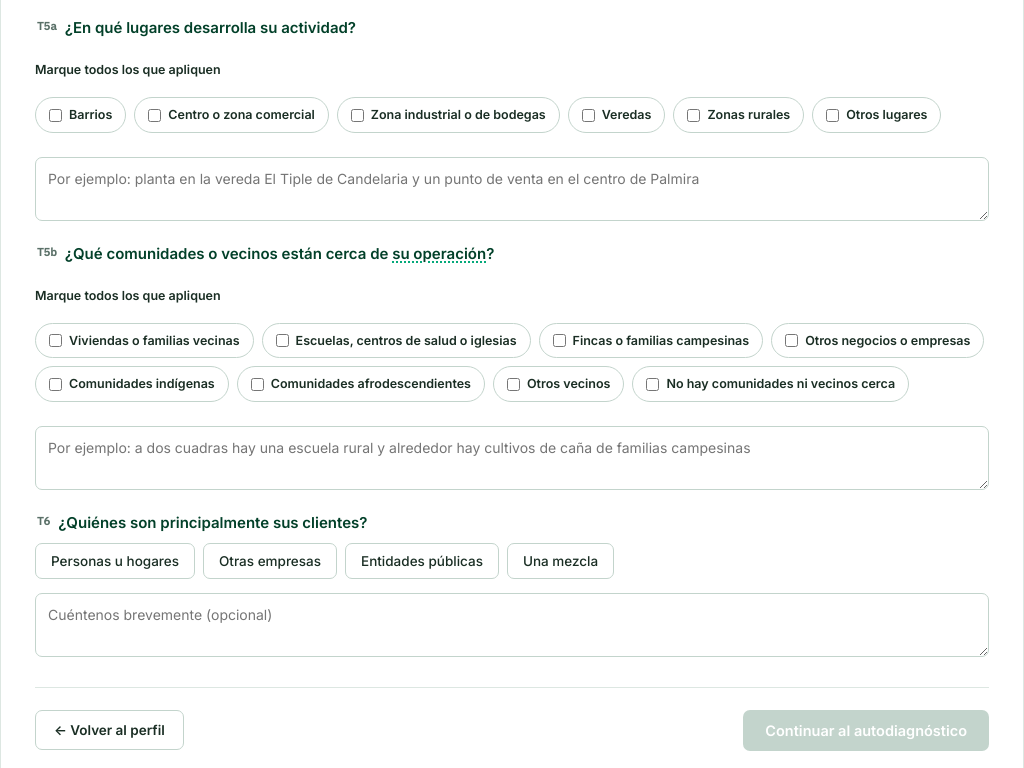
explicaciones al pasar el mouse › cada opción se describe con su ayuda y la muestra al pasar el mouse
(page scrolled)
Hover over the label "Comunidades indígenas" at (132, 384), box [35,366,229,402]
Wait 200 ms
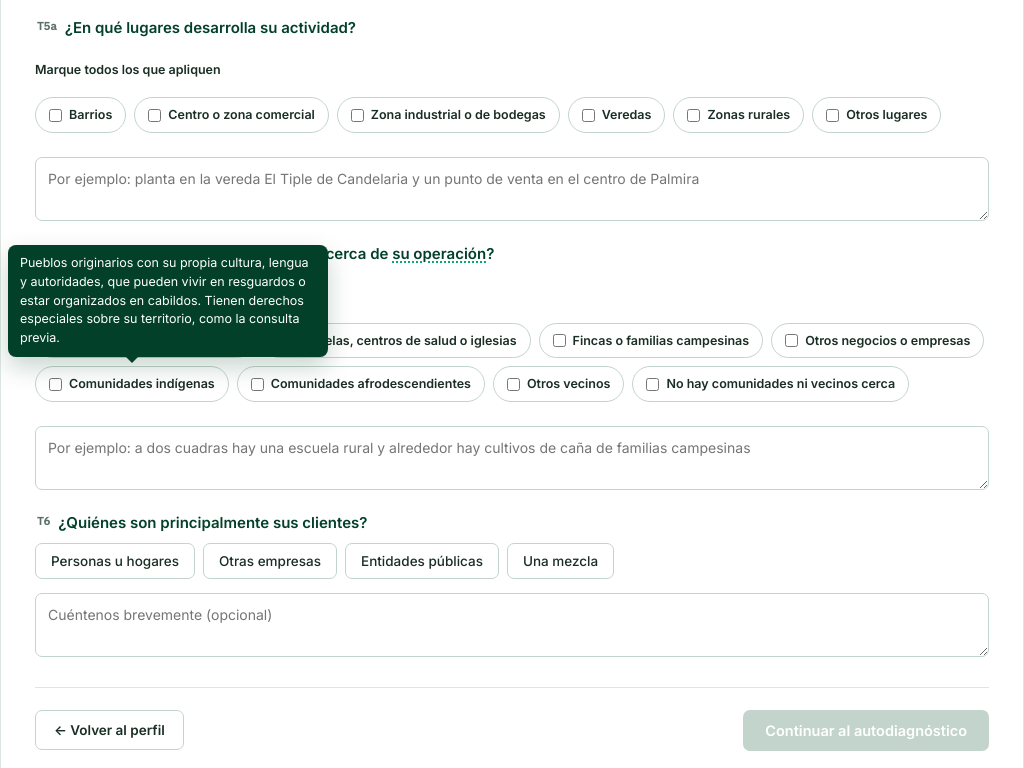
Now the text with class "ayuda-globo" shows "Pueblos originarios con su propia cultura, lengua y autoridades, que pueden vivir en resguardos o estar organizados en cabildos. Tienen derechos especiales sobr", box [20,255,309,345]
Note: Solo un globo a la vez.
Hover over the label "Veredas" at (617, 115), box [568,97,665,133]
Wait 200 ms
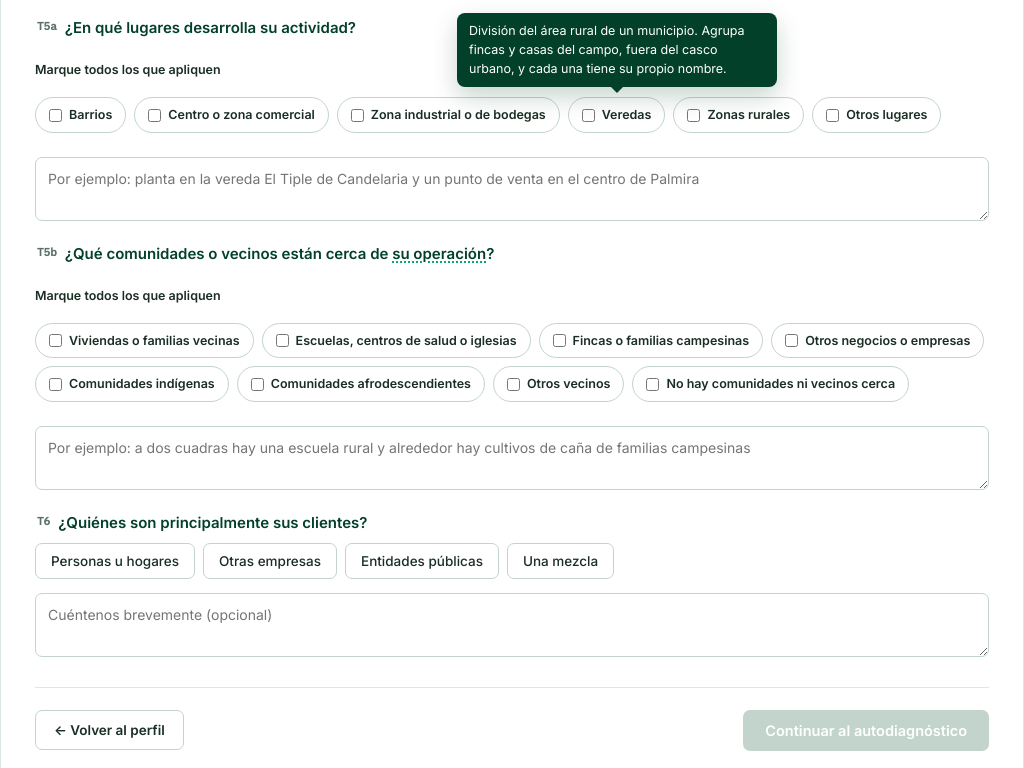
Now the number of elements with class "ayuda-globo" is 1, box [457,13,777,87]
Now the text with class "ayuda-globo" shows "División del área rural", box [469,23,745,76]
Move the pointer off the label "Veredas", box [568,97,665,133]
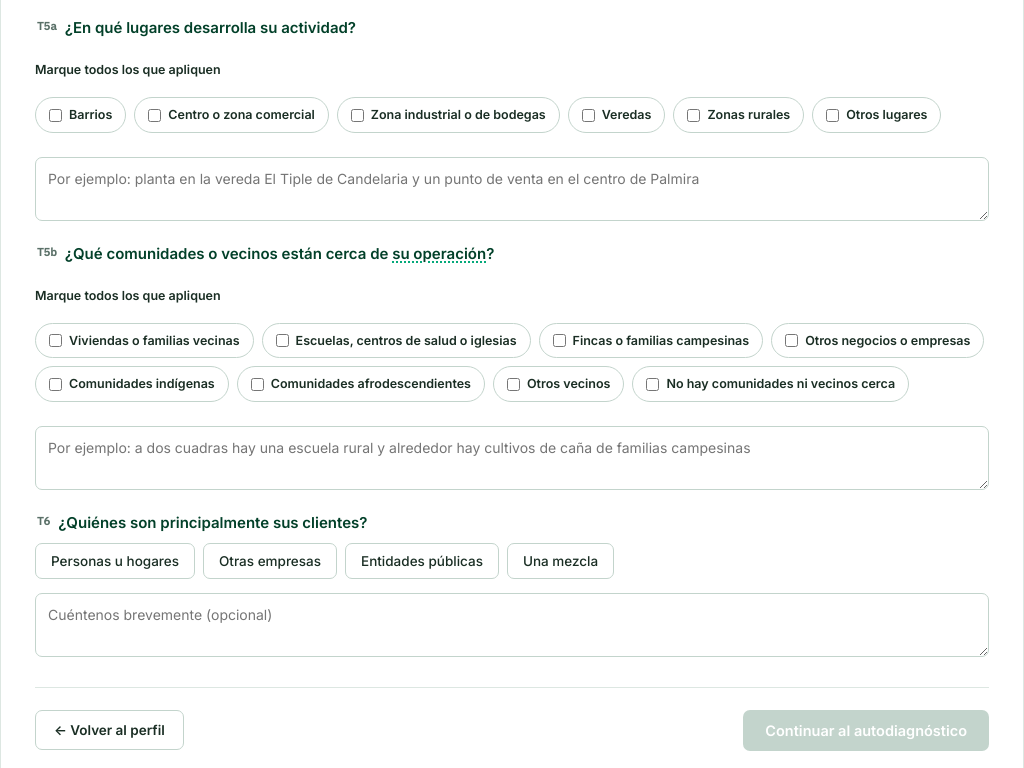
Now the text with class "ayuda-globo" is gone
